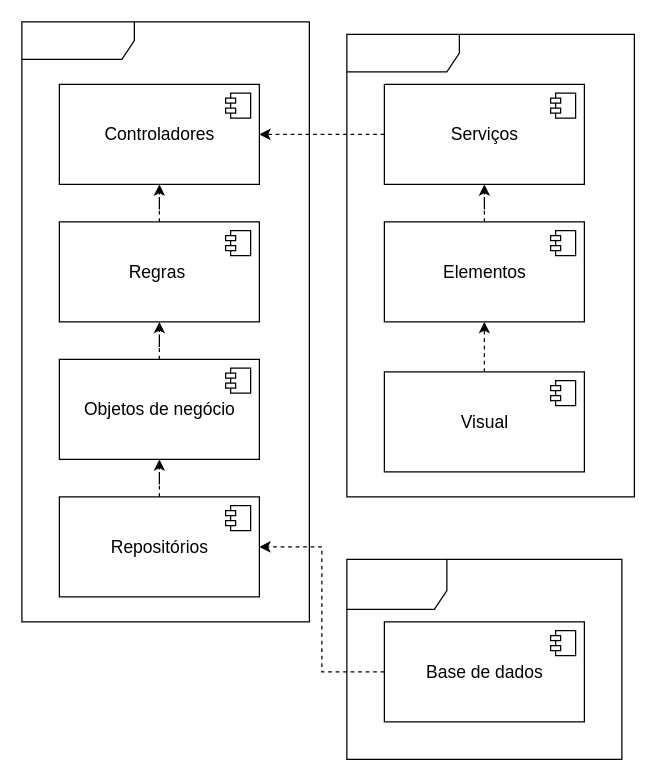
The diagram is 656 pixels wide and 781 high, and some of its shapes have lost their labels. The centre of each missing label's shape, as x and y in pixels:
"Back End" goes at (165,321).
"Banco de dados" goes at (484,658).
"Front End" goes at (490,265).
